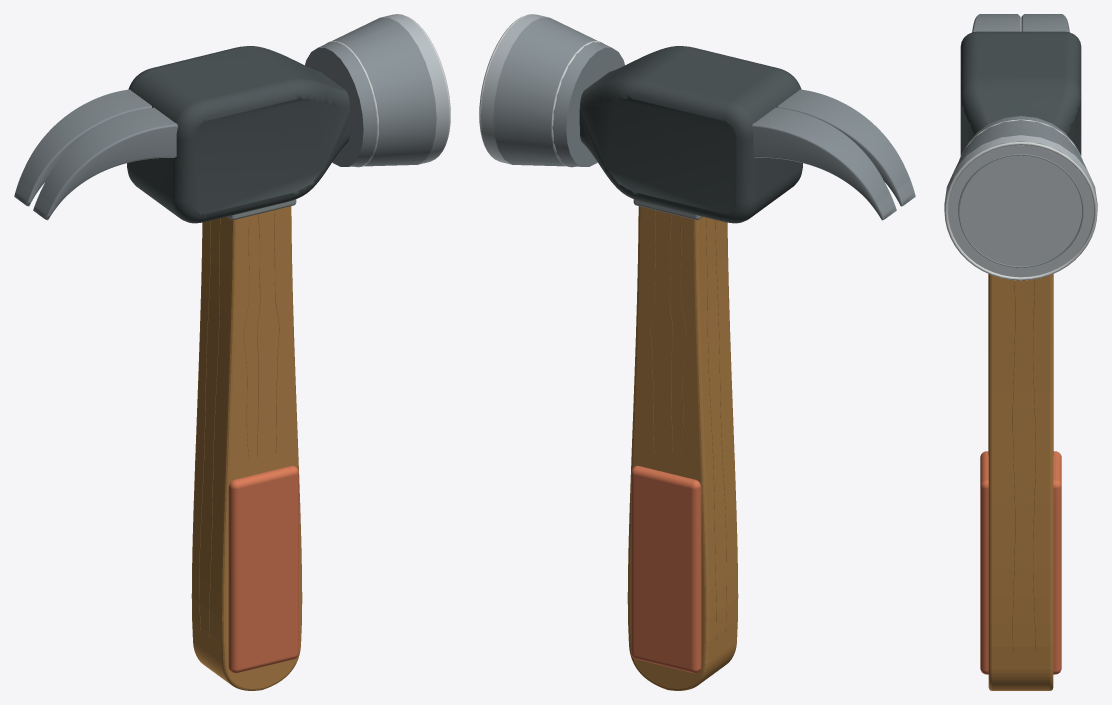
Rendered from workshop-hammer.glb.
3 views of the same model, side by side, from view 1: azimuth 30°, elevation 25°; view 2: azimuth 150°, elevation 25°; view 3: azimuth 270°, elevation 25° (orthographic).
Parts seen in each view (by area): view 1: Wood_Handle, steelInset, Grip_Front, steel, Claw_Back, Claw_Front, steelEdge; view 2: Wood_Handle, steelInset, Grip_Back, steel, Claw_Front, Claw_Back, steelEdge; view 3: Wood_Handle, steelEdge, steelInset, steel, Grip_Front, Grip_Back, Polished_Striking_Rim, Claw_Front, Claw_Back, Machined_Face_Groove, Side_Wood_Right_5, Side_Wood_Right_2.
Boxes of the visible parts, x1,y1,x2,y2 form: Wood_Handle: (191, 206, 302, 690); steelInset: (127, 46, 350, 223); Grip_Front: (228, 465, 298, 673); steel: (305, 17, 436, 166); Claw_Back: (33, 107, 177, 220); Claw_Front: (14, 89, 151, 206); steelEdge: (381, 14, 449, 164); Wood_Handle: (627, 206, 738, 690); steelInset: (579, 46, 802, 223); Grip_Back: (631, 465, 701, 673); steel: (493, 17, 624, 166); Claw_Front: (752, 107, 896, 220); Claw_Back: (778, 89, 915, 206); steelEdge: (480, 14, 548, 164); Wood_Handle: (988, 274, 1053, 690); steelEdge: (944, 135, 1097, 277); steelInset: (960, 31, 1081, 155); steel: (955, 116, 1086, 168); Grip_Front: (980, 451, 988, 674); Grip_Back: (1053, 451, 1061, 674); Polished_Striking_Rim: (944, 142, 1097, 280); Claw_Front: (1021, 14, 1069, 32); Claw_Back: (972, 14, 1020, 32); Machined_Face_Groove: (958, 154, 1083, 267); Side_Wood_Right_5: (1012, 280, 1015, 651); Side_Wood_Right_2: (1033, 279, 1035, 651).
Size of the model in its own units: 0.2629 by 0.4061 by 0.0902.
